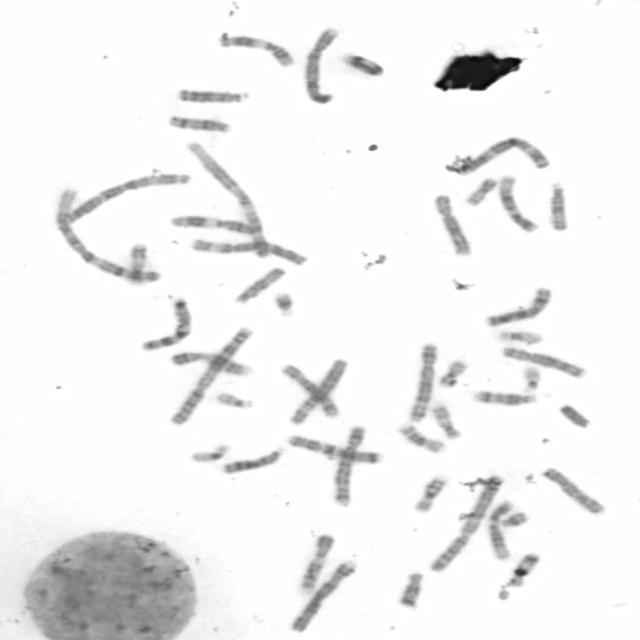A1: (50, 186, 166, 285), (184, 140, 271, 259)
A2: (166, 325, 257, 427), (428, 475, 506, 573)
A3: (55, 172, 193, 228), (455, 134, 551, 176)
B4: (287, 558, 360, 634), (300, 26, 342, 104)
B5: (329, 424, 367, 508), (406, 341, 439, 423)
C10: (540, 466, 607, 516), (280, 364, 341, 418)
C11: (219, 36, 294, 68), (168, 214, 258, 235)
C12: (496, 173, 540, 235), (484, 499, 514, 562)
C6: (285, 358, 352, 426), (187, 235, 309, 267)
C7: (286, 433, 381, 466), (138, 298, 194, 351)
C8: (499, 345, 587, 379), (430, 192, 472, 256)
C9: (296, 532, 336, 594), (168, 351, 252, 378)
D13: (219, 444, 286, 474), (176, 87, 250, 105)
D14: (166, 114, 232, 134), (469, 389, 538, 407)
D15: (232, 265, 288, 305), (546, 180, 570, 232)
E16: (398, 422, 451, 456), (410, 476, 450, 513)
E17: (430, 404, 462, 441), (126, 240, 150, 286)
E18: (508, 551, 542, 587), (398, 570, 427, 606)
F19: (190, 442, 232, 463), (494, 329, 544, 346)
F20: (462, 176, 500, 207), (438, 358, 468, 388)
G21: (271, 290, 296, 318), (498, 510, 528, 530)
G22: (214, 391, 253, 410), (518, 364, 542, 393)
X: (482, 287, 554, 328)
Y: (559, 402, 592, 430)
